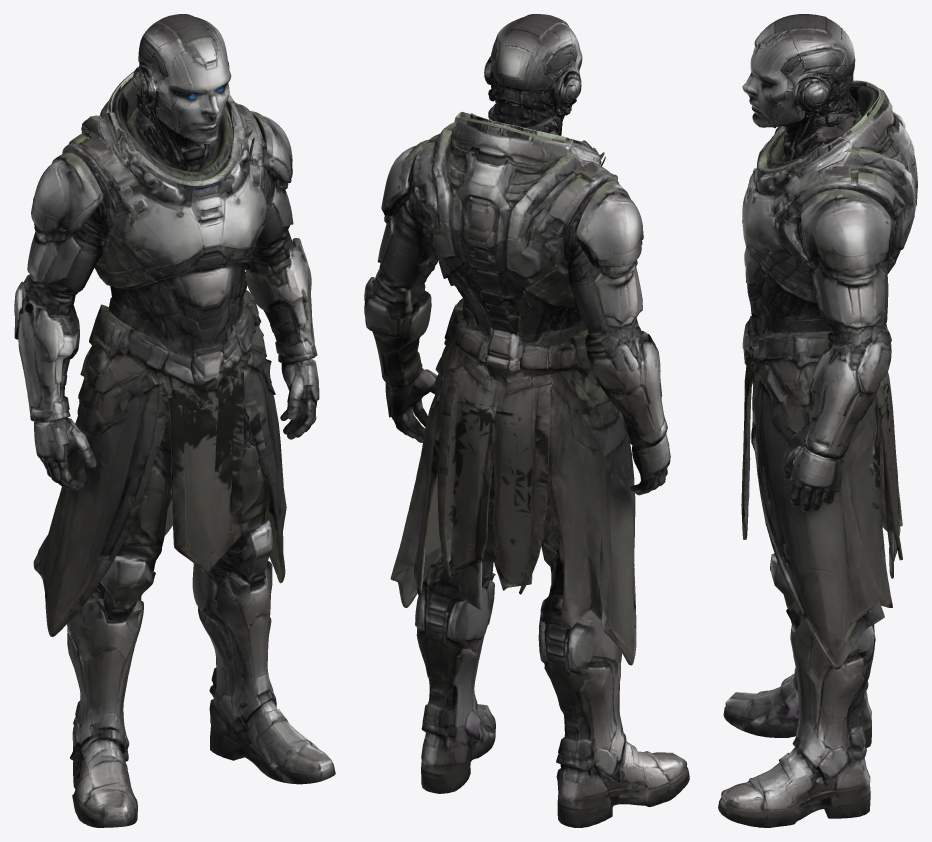
The model's file is feldherr.syntheten.glb.
The picture shows the model from 3 angles, left to right: view 1: azimuth 30°, elevation 25°; view 2: azimuth 150°, elevation 25°; view 3: azimuth 270°, elevation 25°; orthographic projection.
Visible parts, largest first — view 1: figur; view 2: figur; view 3: figur.
Boxes of the visible parts, x1,y1,x2,y2 form: figur: (14, 14, 335, 827); figur: (364, 14, 689, 827); figur: (718, 14, 917, 827).
Size of the model in its own units: 0.3814 by 0.9855 by 0.236.
1 material, 1 textured.
